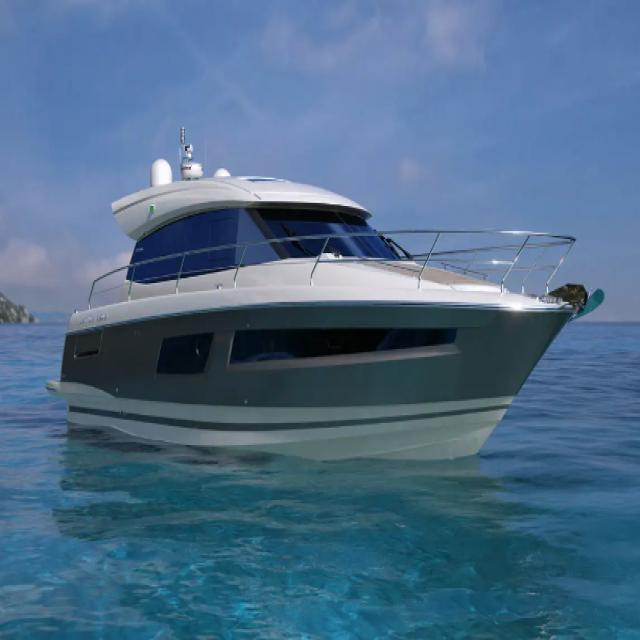houseboat: (52, 130, 580, 488)
